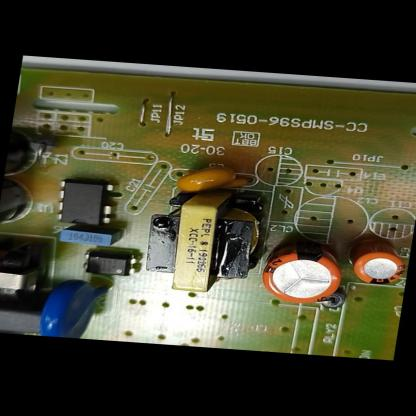Cap1: (252, 232, 349, 312)
Cap2: (341, 233, 412, 289)
Cap3: (0, 176, 56, 250)
Cap4: (1, 118, 70, 197)
MOSFET: (43, 175, 122, 231)
Mov: (31, 268, 108, 340)
Resistor: (0, 327, 34, 336)
Transformer: (133, 178, 280, 301), (0, 231, 56, 309)
